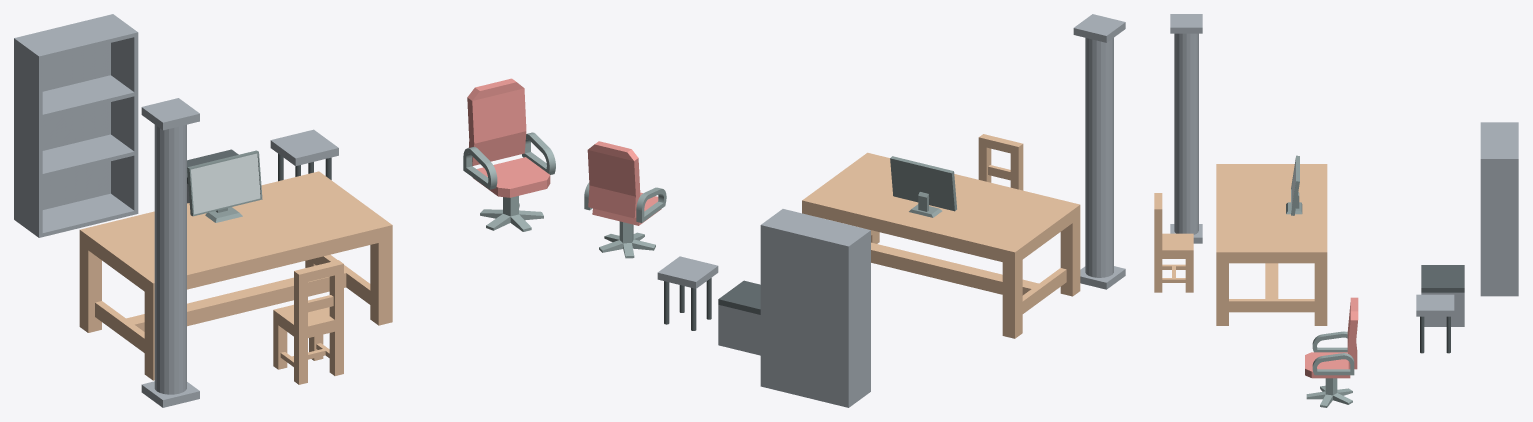
The picture shows the model from 3 angles, left to right: view 1: azimuth 30°, elevation 25°; view 2: azimuth 150°, elevation 25°; view 3: azimuth 270°, elevation 25°; orthographic projection. The views are drawn at different scales.
Parts seen in each view (by area): view 1: table_green__table(Clone), column_cyan__column_cyan shaft, deskchair_black__chair, shelf_orange__shelf_orange back, chair_cyan__chair(Clone), shelf_orange__shelf_orange side_l, shelf_orange__shelf_orange side_r, monitor_gray__computerScreen(Clone), shelf_orange__shelf_orange board3, shelf_orange__shelf_orange board2, shelf_orange__shelf_orange board1, shelf_orange__shelf_orange board0 (+4 smaller); view 2: table_green__table(Clone), shelf_orange__shelf_orange back, column_cyan__column_cyan shaft, deskchair_black__chair, shelf_orange__shelf_orange side_l, monitor_gray__computerScreen(Clone), crate_red__crate_red shell, chair_cyan__chair(Clone), shelf_orange__shelf_orange board3, stool_purple__stool_purple seat, column_cyan__column_cyan capital, deskchair_black__chairDesk(Clone) (+3 smaller); view 3: table_green__table(Clone), shelf_orange__shelf_orange side_r, column_cyan__column_cyan shaft, deskchair_black__chair, chair_cyan__chair(Clone), shelf_orange__shelf_orange board3, crate_red__crate_red lid, stool_purple__stool_purple seat, crate_red__crate_red shell, deskchair_black__chairDesk(Clone), column_cyan__column_cyan capital, monitor_gray__computerScreen(Clone).
Boxes of the visible parts, <box> form: table_green__table(Clone): <box>79,171,392,380</box>; column_cyan__column_cyan shaft: <box>154,124,186,394</box>; deskchair_black__chair: <box>463,78,555,197</box>; shelf_orange__shelf_orange back: <box>18,15,110,209</box>; chair_cyan__chair(Clone): <box>273,260,343,384</box>; shelf_orange__shelf_orange side_l: <box>14,37,42,237</box>; shelf_orange__shelf_orange side_r: <box>110,14,138,214</box>; monitor_gray__computerScreen(Clone): <box>187,150,262,222</box>; shelf_orange__shelf_orange board3: <box>19,16,134,59</box>; shelf_orange__shelf_orange board2: <box>42,75,134,118</box>; shelf_orange__shelf_orange board1: <box>42,134,134,177</box>; shelf_orange__shelf_orange board0: <box>42,193,134,236</box>; table_green__table(Clone): <box>802,152,1080,338</box>; shelf_orange__shelf_orange back: <box>764,225,846,406</box>; column_cyan__column_cyan shaft: <box>1085,38,1113,277</box>; deskchair_black__chair: <box>584,141,666,225</box>; shelf_orange__shelf_orange side_l: <box>845,229,870,407</box>; monitor_gray__computerScreen(Clone): <box>890,156,956,217</box>; crate_red__crate_red shell: <box>718,305,760,355</box>; chair_cyan__chair(Clone): <box>978,134,1023,190</box>; shelf_orange__shelf_orange board3: <box>765,209,867,244</box>; stool_purple__stool_purple seat: <box>657,256,718,288</box>; column_cyan__column_cyan capital: <box>1073,14,1125,42</box>; deskchair_black__chairDesk(Clone): <box>599,221,655,258</box>; table_green__table(Clone): <box>1216,164,1327,325</box>; shelf_orange__shelf_orange side_r: <box>1480,157,1518,296</box>; column_cyan__column_cyan shaft: <box>1174,33,1198,234</box>; deskchair_black__chair: <box>1305,297,1358,378</box>; chair_cyan__chair(Clone): <box>1154,193,1193,292</box>; shelf_orange__shelf_orange board3: <box>1480,124,1516,157</box>; crate_red__crate_red lid: <box>1421,265,1464,292</box>; stool_purple__stool_purple seat: <box>1416,294,1454,316</box>; crate_red__crate_red shell: <box>1421,292,1464,326</box>; deskchair_black__chairDesk(Clone): <box>1306,378,1352,407</box>; column_cyan__column_cyan capital: <box>1170,14,1202,33</box>; monitor_gray__computerScreen(Clone): <box>1286,155,1302,215</box>.
Size of the model in its own units: 3.93 by 2.2 by 3.36.
